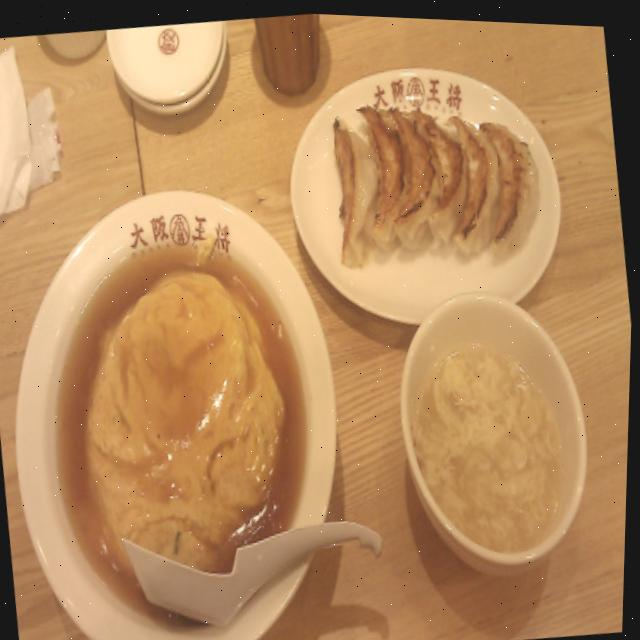带馅早点: (175, 78, 450, 557)
汤锅炖物: (279, 458, 456, 640)
